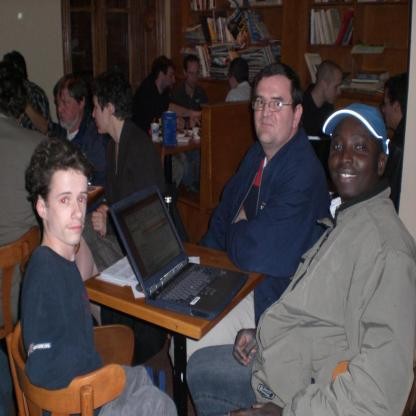board: (110, 185, 249, 322), (162, 110, 177, 146)
